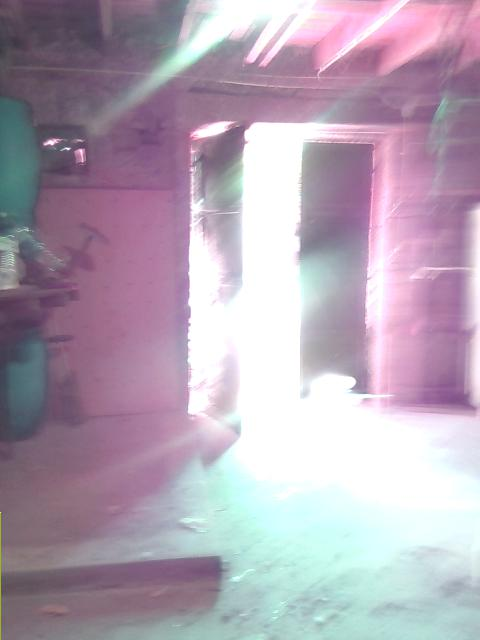semi_door: (186, 114, 390, 441)
